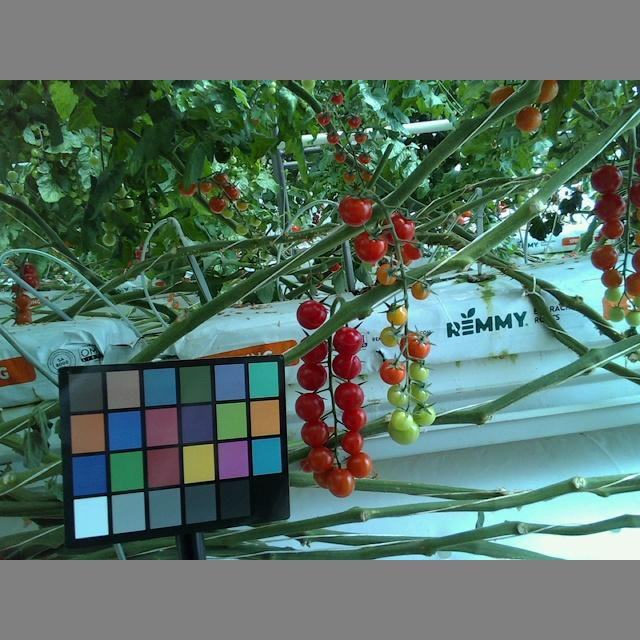green: (387, 414, 418, 447), (410, 403, 436, 427), (405, 382, 432, 404), (387, 381, 410, 406), (388, 408, 412, 430), (377, 326, 401, 347), (409, 359, 430, 382), (608, 302, 625, 323), (602, 286, 620, 302)
pink: (400, 330, 431, 361), (377, 358, 407, 385), (589, 245, 618, 271), (515, 106, 542, 133), (599, 266, 622, 288), (385, 305, 408, 326), (375, 264, 397, 285), (409, 278, 431, 299), (601, 219, 623, 240)
red: (383, 211, 418, 247), (353, 230, 387, 264), (330, 325, 364, 358), (341, 194, 373, 226), (591, 162, 622, 195), (332, 380, 364, 411), (296, 300, 328, 330), (294, 361, 328, 389), (594, 191, 625, 221), (325, 467, 355, 497), (294, 393, 325, 422), (330, 353, 362, 381), (301, 417, 330, 447), (308, 446, 335, 475), (345, 450, 373, 477), (341, 404, 366, 432), (340, 431, 363, 456)
